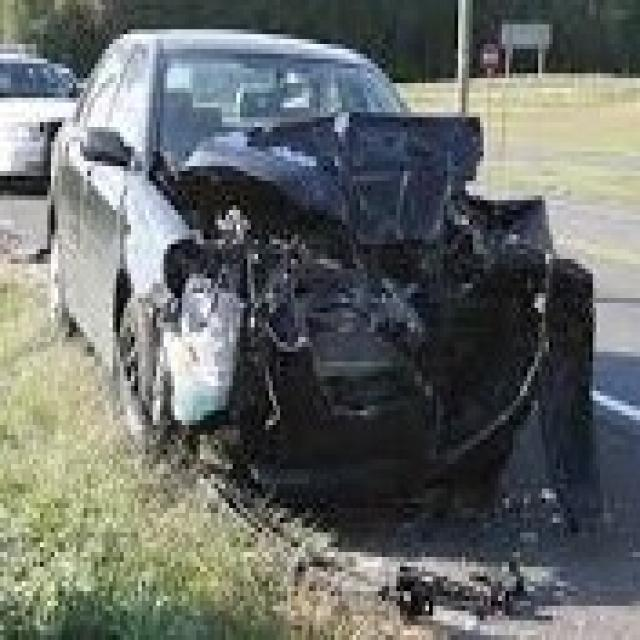minor: (158, 101, 596, 454)
